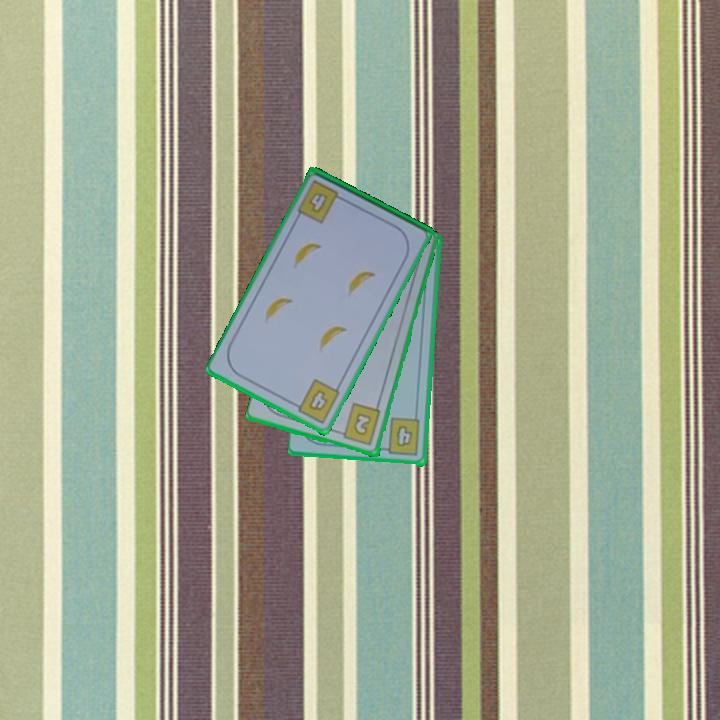2b: (334, 400, 384, 448)
4b: (289, 375, 343, 426), (294, 177, 348, 226), (378, 415, 423, 459)
